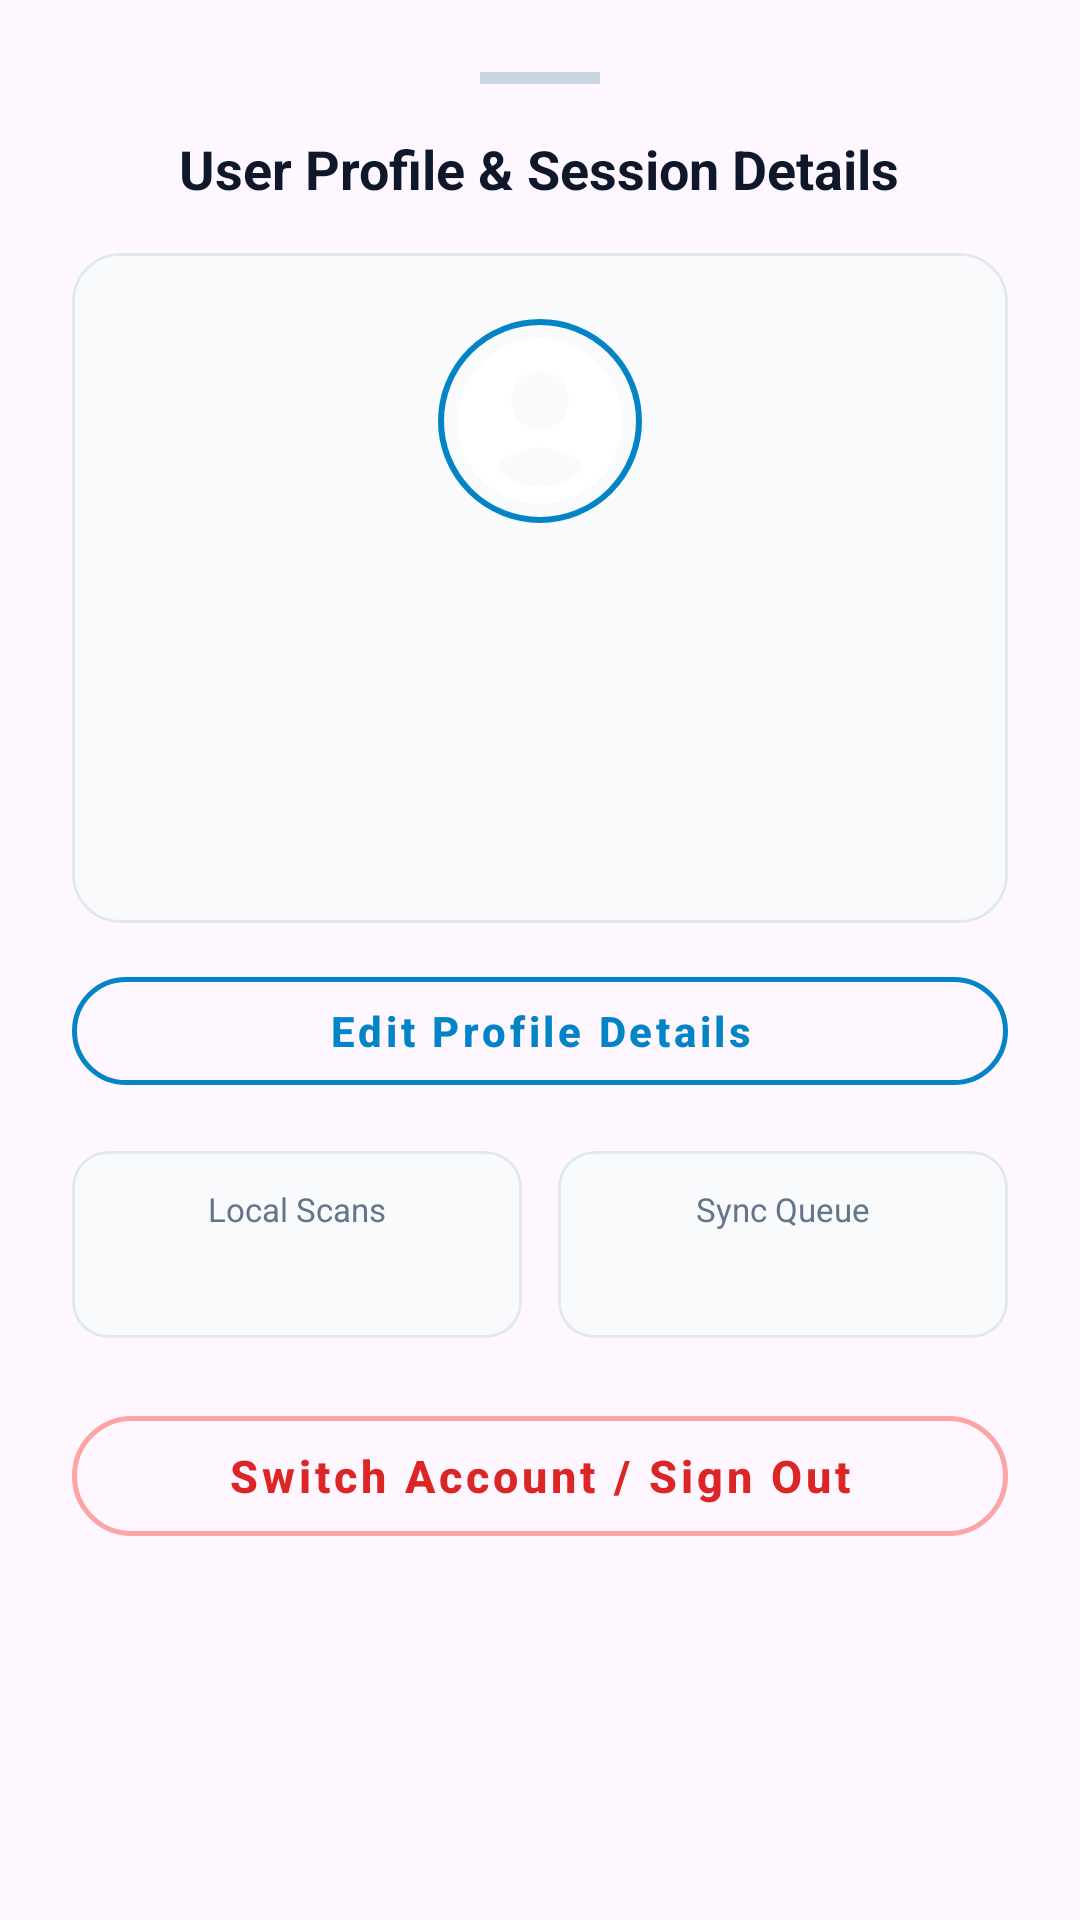

Where icons sit on this 1080px x 1920px app screen, as rect(x1, y1, x2, y2):
account circle: rect(438, 319, 642, 523)
